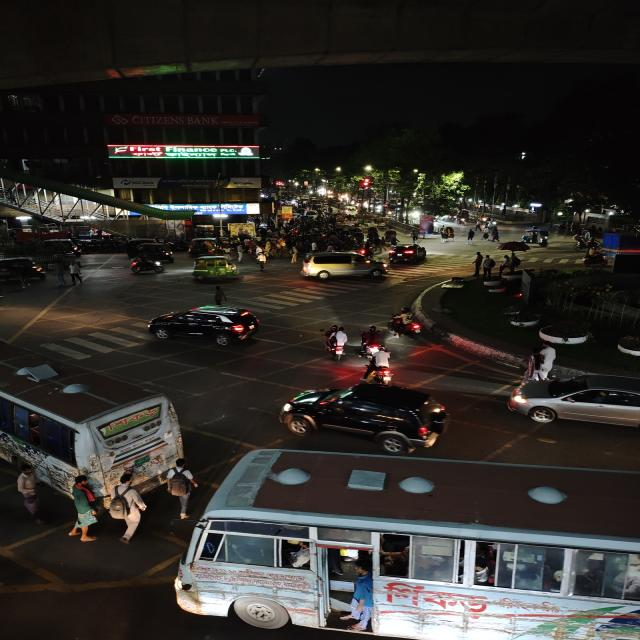bus: (176, 442, 631, 640), (0, 335, 186, 497), (589, 608, 640, 640)
car: (274, 380, 455, 456), (501, 373, 640, 431), (141, 304, 268, 349), (298, 250, 391, 282), (385, 240, 428, 266)
cng: (189, 252, 238, 282)
motorcycle: (386, 305, 426, 341), (318, 322, 352, 362), (366, 345, 400, 383), (358, 323, 389, 357), (126, 253, 169, 276), (580, 248, 611, 268)
pedestrian: (99, 488, 150, 542), (65, 476, 102, 538), (11, 464, 47, 516), (164, 468, 197, 516), (521, 344, 561, 379), (53, 258, 74, 288), (66, 257, 86, 287), (481, 255, 496, 278), (471, 252, 484, 276), (488, 221, 501, 243), (463, 227, 477, 247), (409, 224, 425, 241), (426, 218, 438, 235)
rickshaw: (518, 231, 553, 247), (381, 227, 401, 244), (439, 224, 456, 243)
truck: (602, 232, 640, 255)
